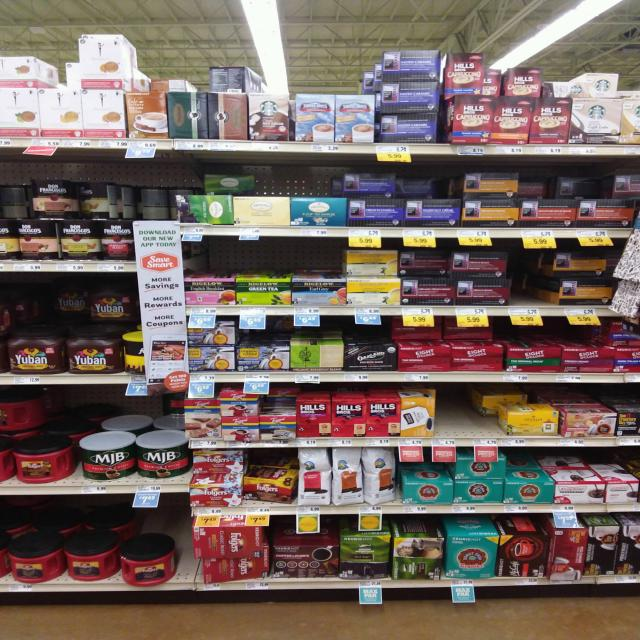100- O.O.S: (437, 384, 466, 446), (512, 250, 532, 316)
